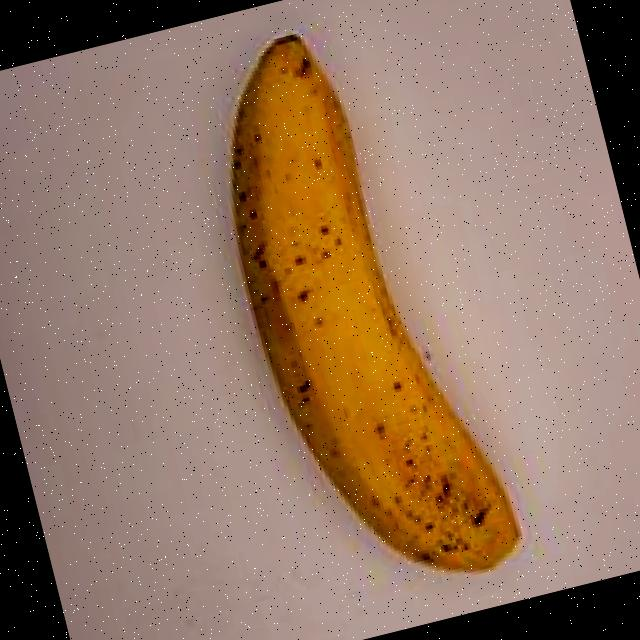Overripe: (113, 0, 587, 634)
